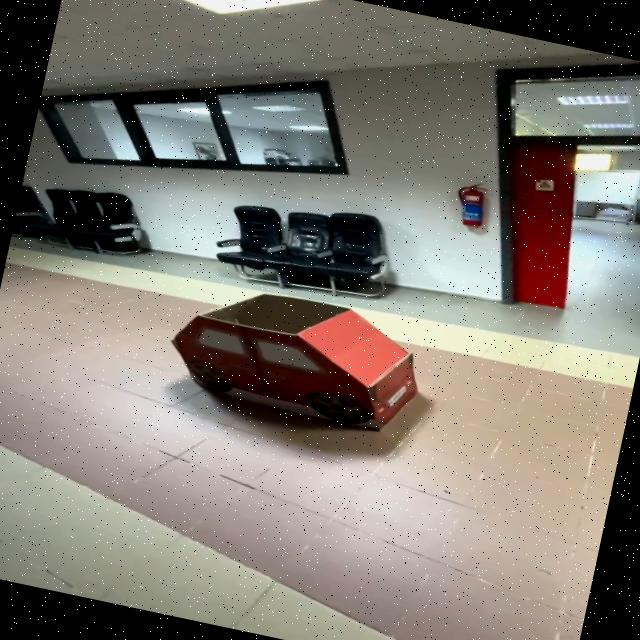red_car: (129, 254, 471, 458)
